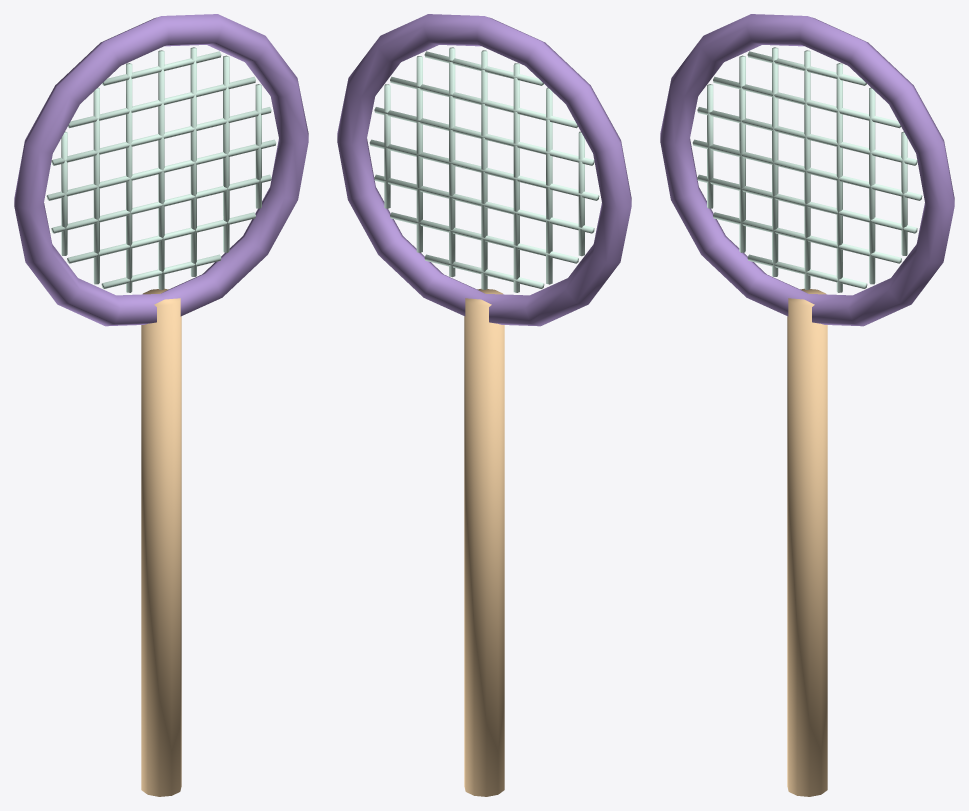
Rendered from catch_net.glb.
The picture shows the model from 3 angles, left to right: view 1: azimuth 30°, elevation 25°; view 2: azimuth 150°, elevation 25°; view 3: azimuth 330°, elevation 25°; orthographic projection.
Parts seen in each view (by area): view 1: hoop, handle, net_v_0, net_h_0, net_v_-1, net_v_1, net_h_-1, net_h_1, net_v_2, net_v_-2, net_h_-2, net_h_2 (+4 smaller); view 2: hoop, handle, net_v_0, net_h_0, net_v_-1, net_v_1, net_h_-1, net_h_1, net_v_2, net_v_-2, net_h_-2, net_h_2 (+4 smaller); view 3: hoop, handle, net_v_0, net_h_0, net_v_1, net_v_-1, net_h_-1, net_h_1, net_v_-2, net_v_2, net_h_-2, net_h_2 (+4 smaller).
Part boxes in pixels (x1,y1,x2,y2): hoop: (14, 14, 308, 326); handle: (141, 288, 181, 796); net_v_0: (158, 50, 164, 289); net_h_0: (46, 139, 276, 200); net_v_-1: (126, 63, 132, 292); net_v_1: (190, 47, 196, 276); net_h_-1: (51, 174, 271, 233); net_h_1: (51, 107, 271, 165); net_v_2: (223, 55, 229, 252); net_v_-2: (93, 87, 99, 284); net_h_-2: (67, 212, 255, 263); net_h_2: (67, 76, 255, 128); hoop: (337, 14, 631, 326); handle: (464, 289, 504, 796); net_v_0: (481, 50, 487, 289); net_h_0: (369, 139, 599, 200); net_v_-1: (513, 63, 519, 292); net_v_1: (449, 47, 455, 277); net_h_-1: (374, 174, 594, 233); net_h_1: (374, 107, 594, 165); net_v_2: (416, 56, 422, 252); net_v_-2: (546, 87, 552, 284); net_h_-2: (390, 212, 578, 263); net_h_2: (390, 76, 578, 128); hoop: (660, 14, 954, 326); handle: (787, 288, 827, 796); net_v_0: (804, 50, 810, 289); net_h_0: (692, 139, 922, 200); net_v_1: (836, 63, 842, 292); net_v_-1: (772, 47, 778, 276); net_h_-1: (697, 174, 917, 233); net_h_1: (697, 107, 917, 165); net_v_-2: (739, 55, 745, 252); net_v_2: (869, 87, 875, 284); net_h_-2: (713, 212, 901, 263); net_h_2: (713, 76, 901, 128).
Size of the model in its own units: 1.82 by 4.56 by 0.22.
